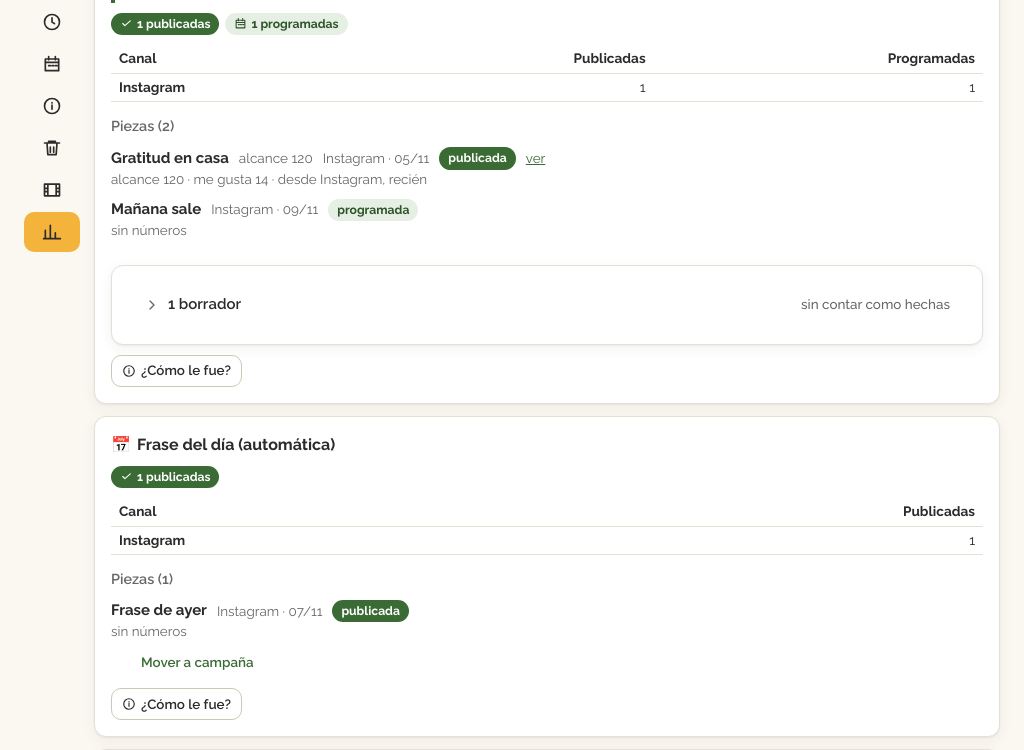
Métricas › «¿Cómo le fue?» muestra el texto, las fuentes y lo que faltó
The image size is (1024, 750).
(page scrolled)
Click the button "¿Cómo le fue?" below "Mañana sale" at (176, 370), box [111,354,242,386]
(page scrolled)
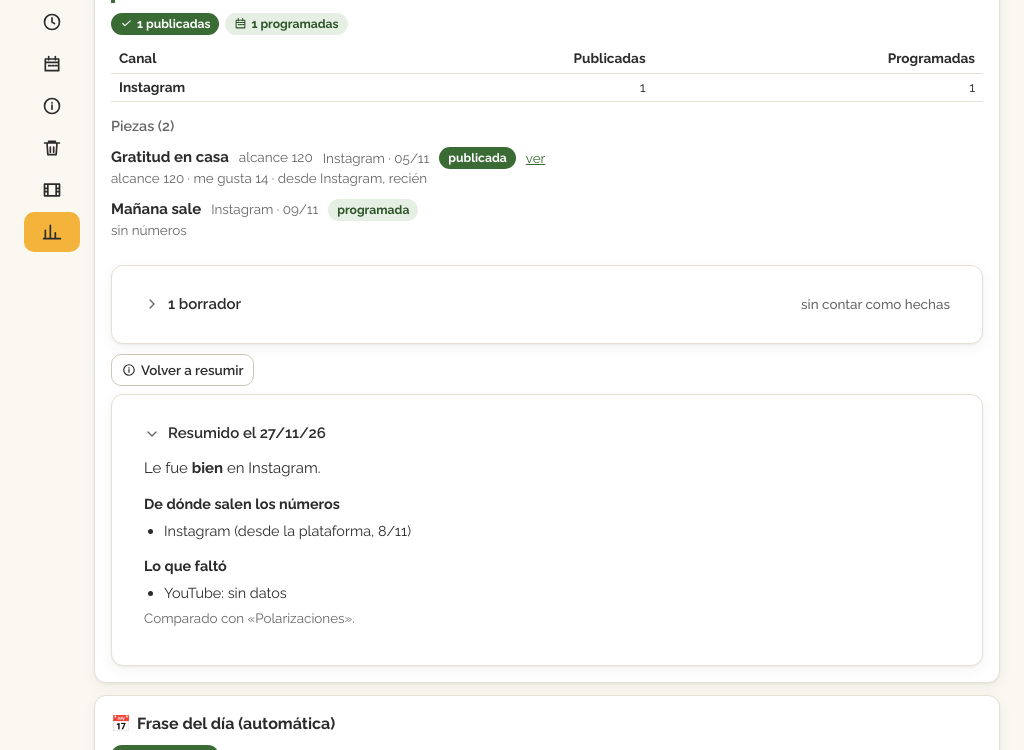
Result: the text "Comparado con «Polarizaciones»." is shown at [144,610,355,626]
Result: the button "Volver a resumir" is shown at [111,354,254,386]
